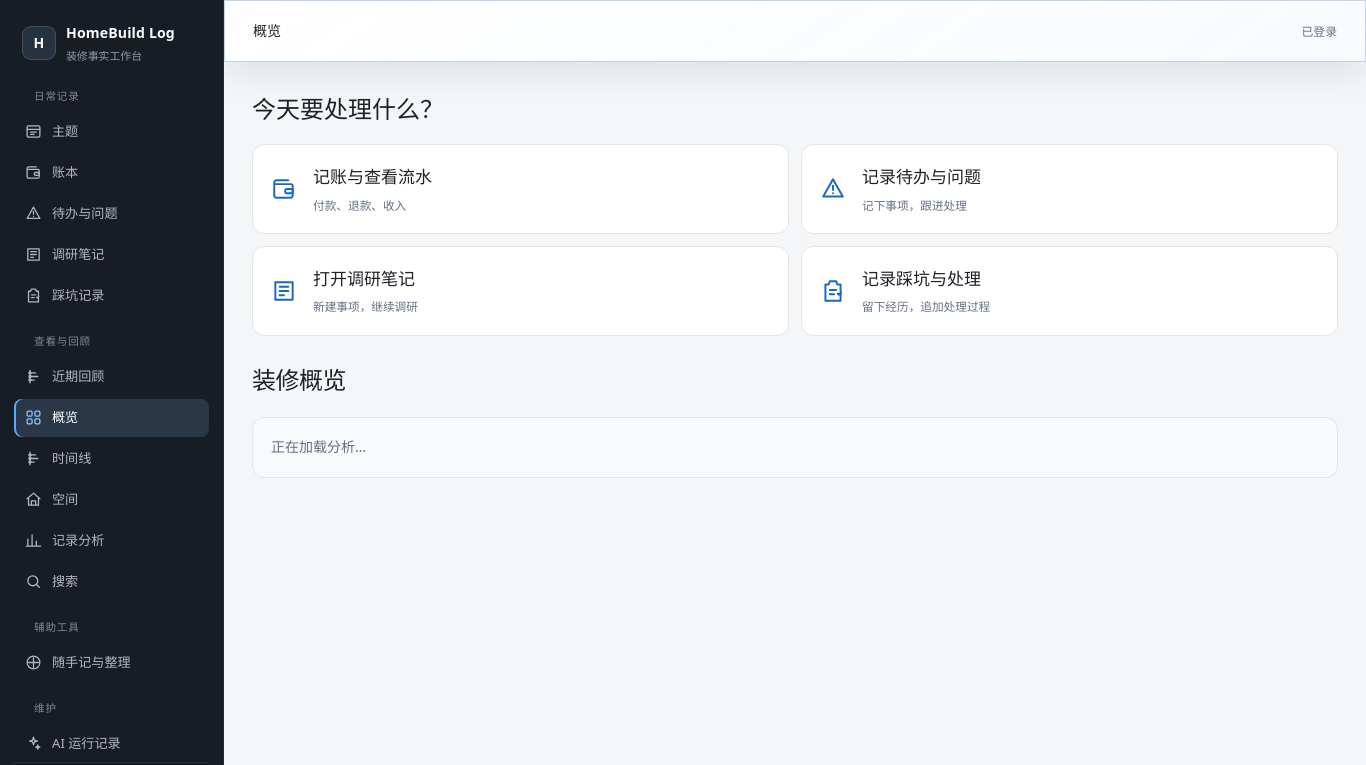
Test: CoreViews › 只读详情直接展示类型核心事实：{"record_type":"ledger","amount_minor":12345,"direction":"expense","vendor":{"id":"vendor-1","name":"事实商家"}}
Step 1. Click the button "时间线" → point(112, 459), box [14,440,209,478]
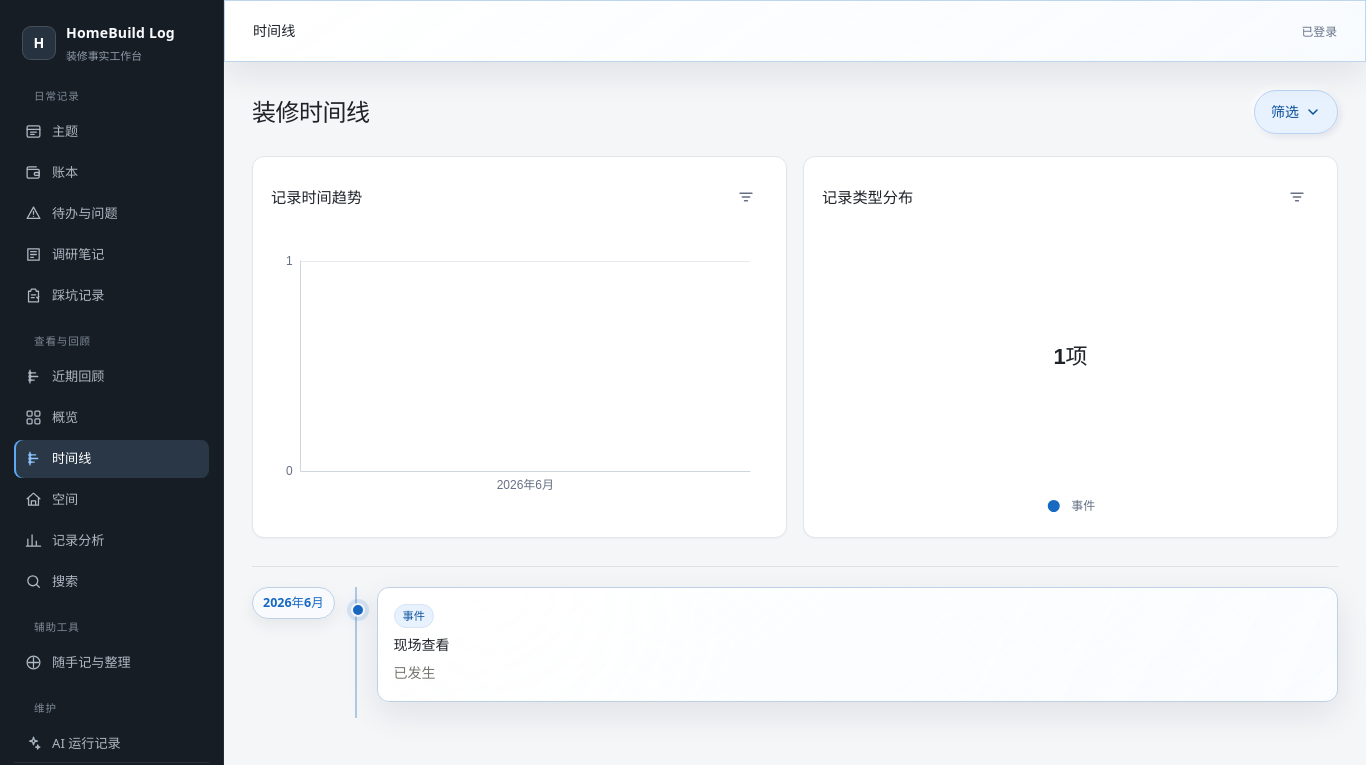
Step 2. Click the button "事件 现场查看 已发生" → point(414, 616), box [377,587,1338,702]
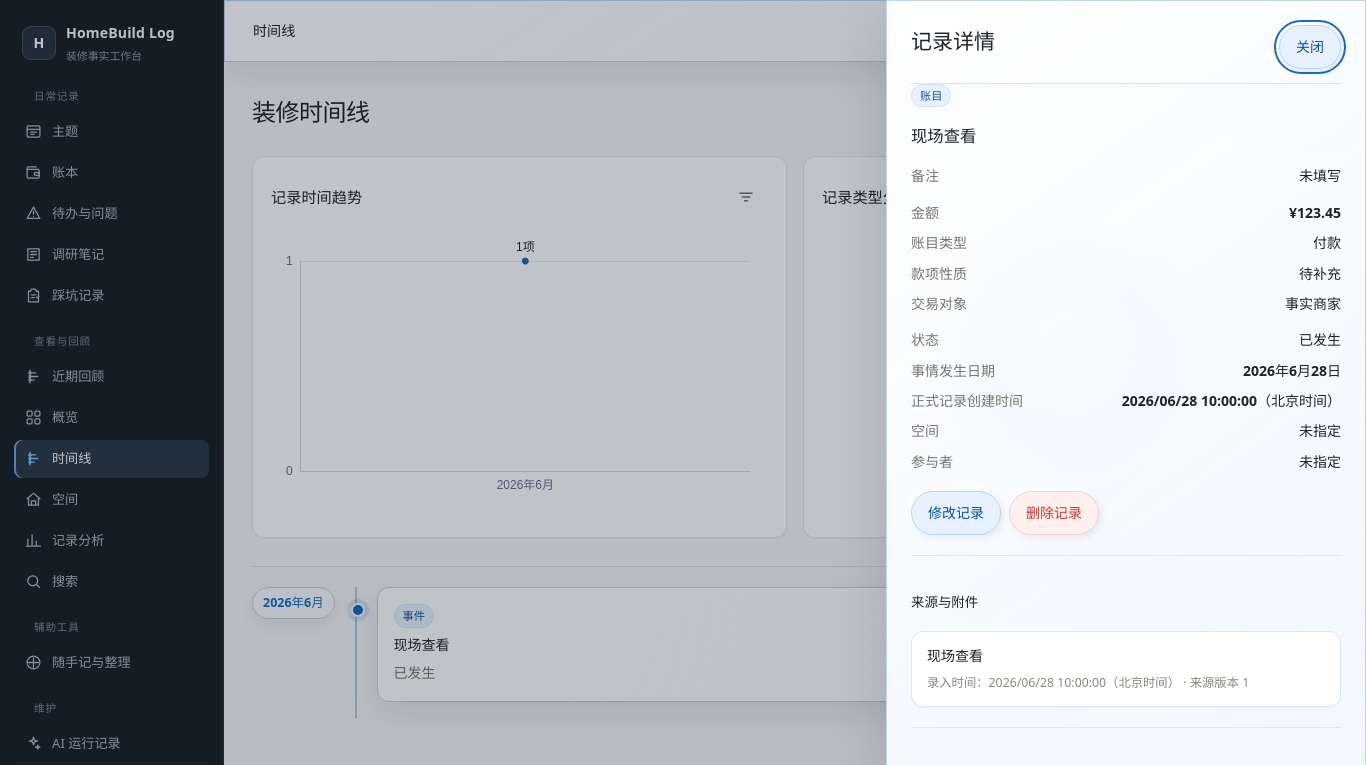
Expected: the text "¥123.45" is shown, [1289,202,1341,224]
Expected: the text "事实商家" is shown, [1285,293,1341,315]
